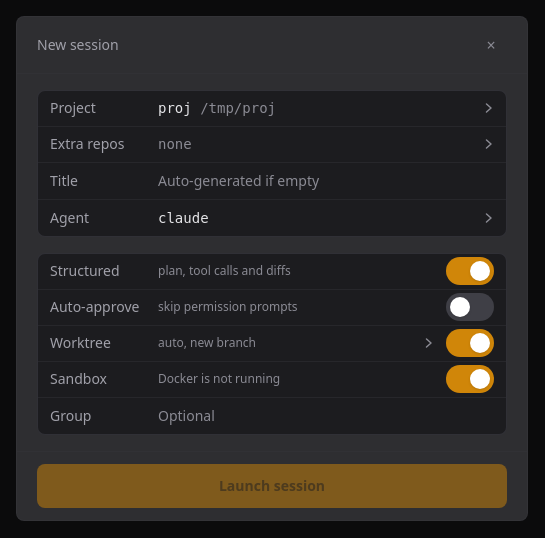
Test case: SessionWizard rows › a blocked switch left on shows on and turns off: 1
Check: the element named "Run in a safe container" shows "Docker is not running", box [158,370,280,387]
Click the switch named "Run in a safe container" at (470, 379), box [446,365,494,393]
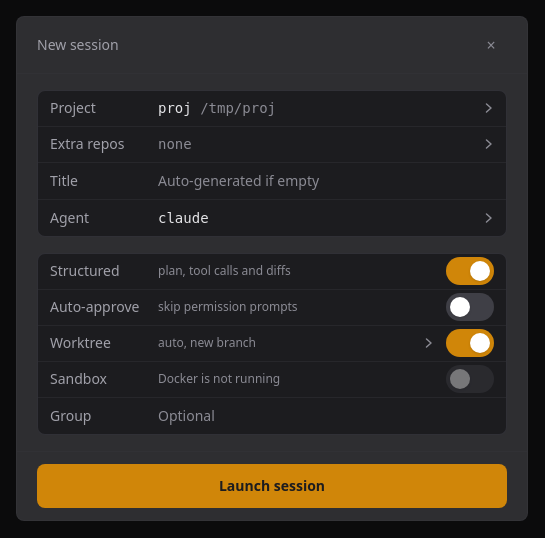
Check: the switch named "Run in a safe container" is disabled, box [446,365,494,393]
